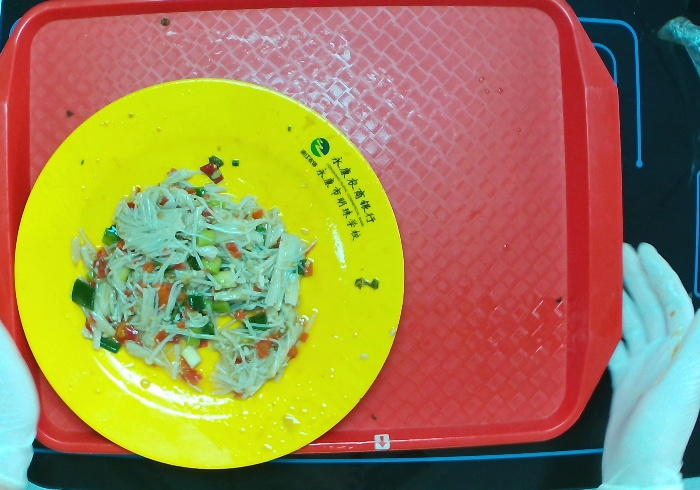YKMZ-Huang_Se_Mian_Pan: (1, 72, 424, 483)
